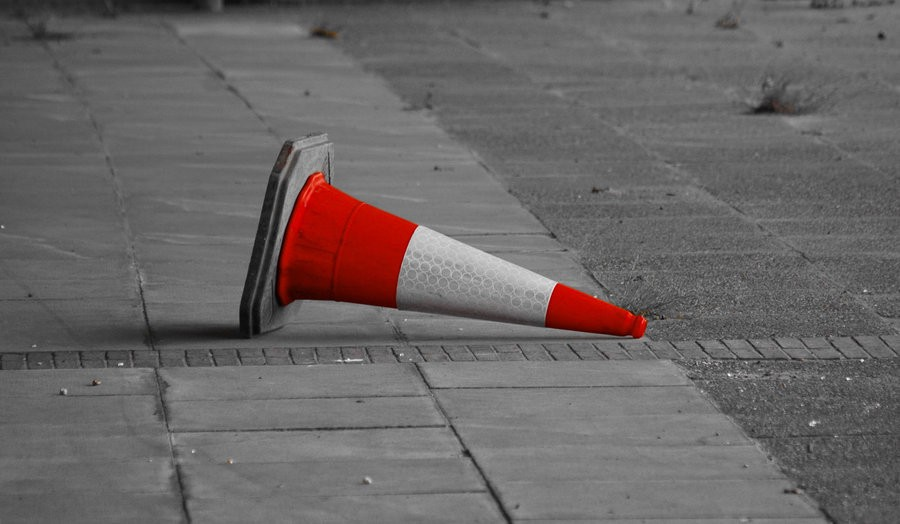cones: (222, 130, 657, 346)
